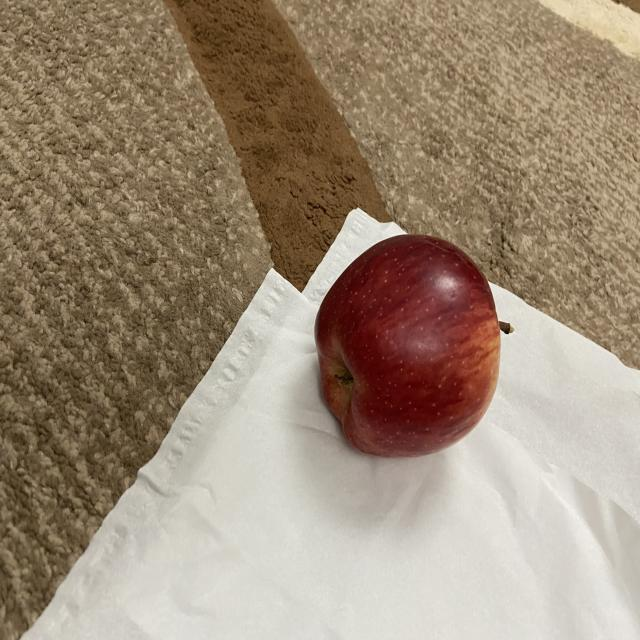apple: (306, 227, 520, 471)
